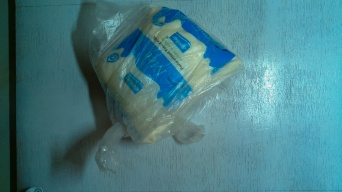m: (85, 6, 251, 148)
